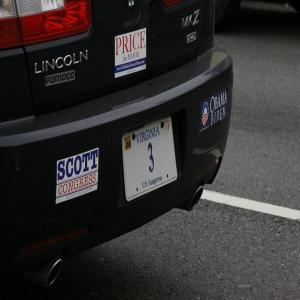Vehicle-registration-plate: (123, 116, 178, 203)
